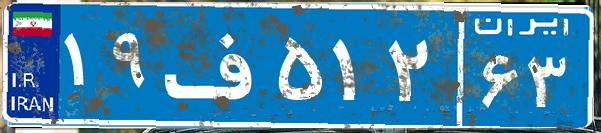1: (330, 28, 385, 110), (57, 26, 110, 107)
2: (385, 28, 445, 110)
3: (525, 38, 570, 115)
5: (273, 28, 330, 110)
6: (475, 38, 525, 113)
9: (110, 28, 158, 105)
ف: (158, 15, 273, 115)
